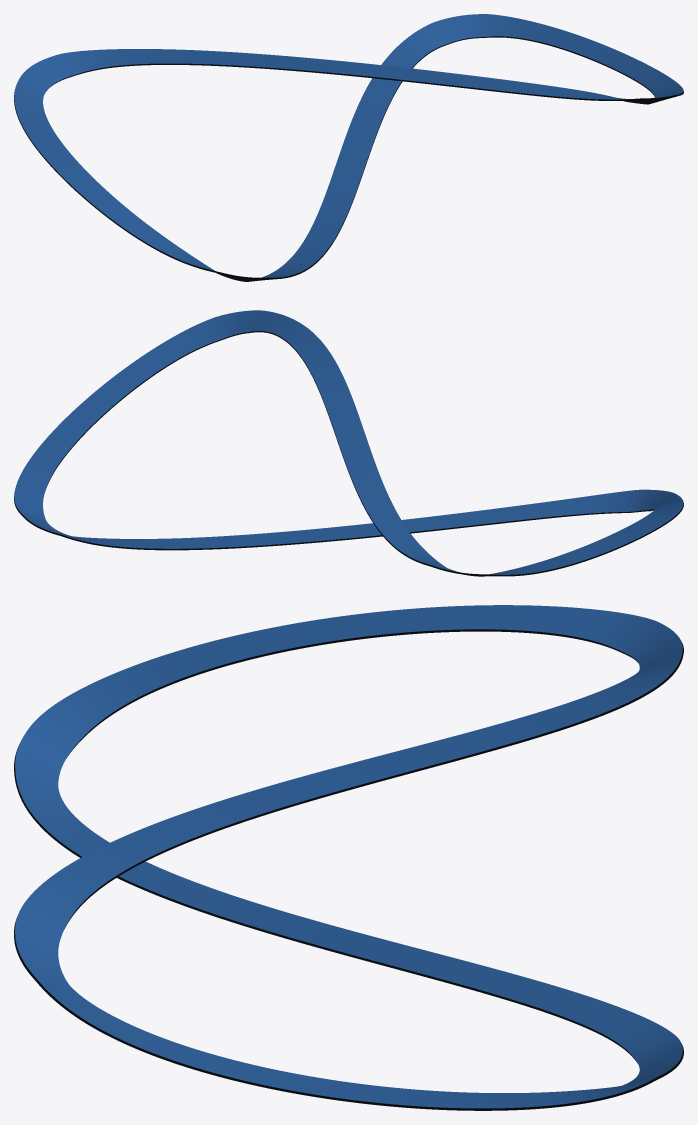
Rendered from chromatic-eight-track.obj.
3 renders of one model, top to bottom at view 1: azimuth 30°, elevation 25°; view 2: azimuth 150°, elevation 25°; view 3: azimuth 270°, elevation 25°, orthographic. The views are drawn at different scales.
Visible parts, largest first — view 1: prismatic-road_part_0, carbon-road-chassis_part_1; view 2: prismatic-road_part_0, carbon-road-chassis_part_1; view 3: prismatic-road_part_0, carbon-road-chassis_part_1.
Part boxes in pixels (box(x1,y1,x2,y2)): prismatic-road_part_0: box(14, 14, 683, 277); carbon-road-chassis_part_1: box(14, 36, 683, 281); prismatic-road_part_0: box(14, 310, 683, 574); carbon-road-chassis_part_1: box(14, 331, 683, 576); prismatic-road_part_0: box(15, 605, 682, 1108); carbon-road-chassis_part_1: box(14, 629, 683, 1110).
Bounding box in the file's own units: 316 × 60.9 × 197.
